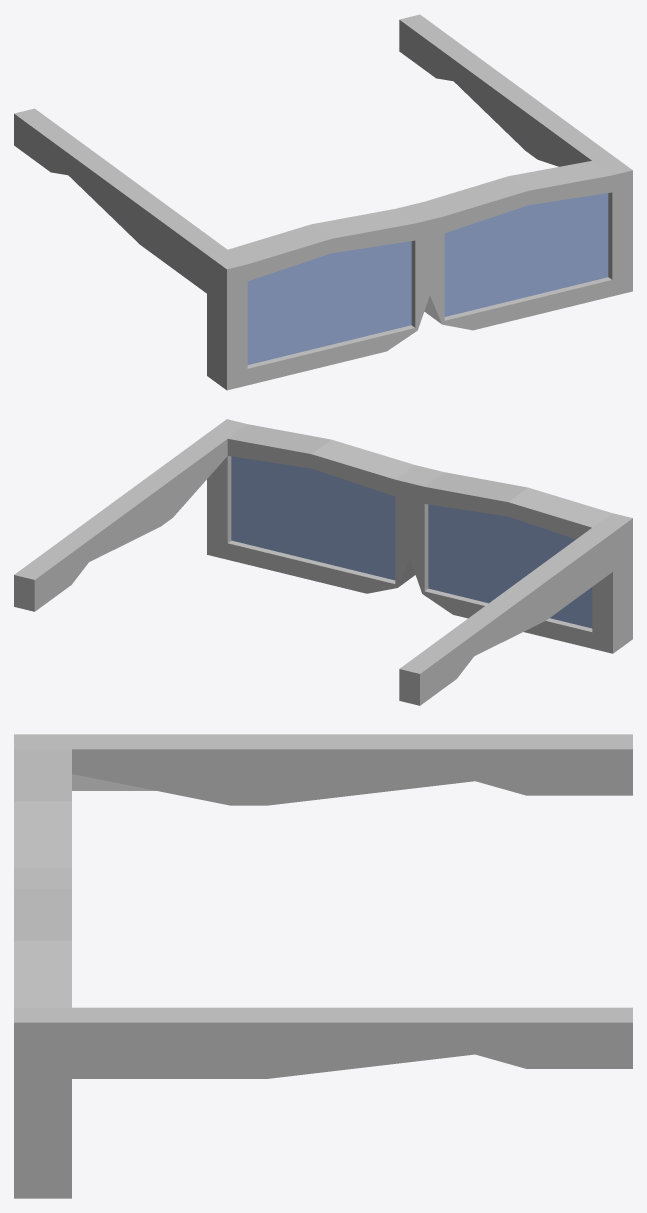
The model's file is SM_Glasses_01_B.gltf.
The picture shows the model from 3 angles, top to bottom: view 1: azimuth 30°, elevation 25°; view 2: azimuth 150°, elevation 25°; view 3: azimuth 270°, elevation 25°; orthographic projection. The views are drawn at different scales.
Visible parts, largest first — view 1: Glasses_01_B; view 2: Glasses_01_B; view 3: Glasses_01_B.
Part boxes in pixels (x1,y1,x2,y2): Glasses_01_B: (14,14,632,390); Glasses_01_B: (14,419,632,705); Glasses_01_B: (14,734,632,1198).
Bounding box in the file's own units: 0.1746 × 0.0518 × 0.1586.
